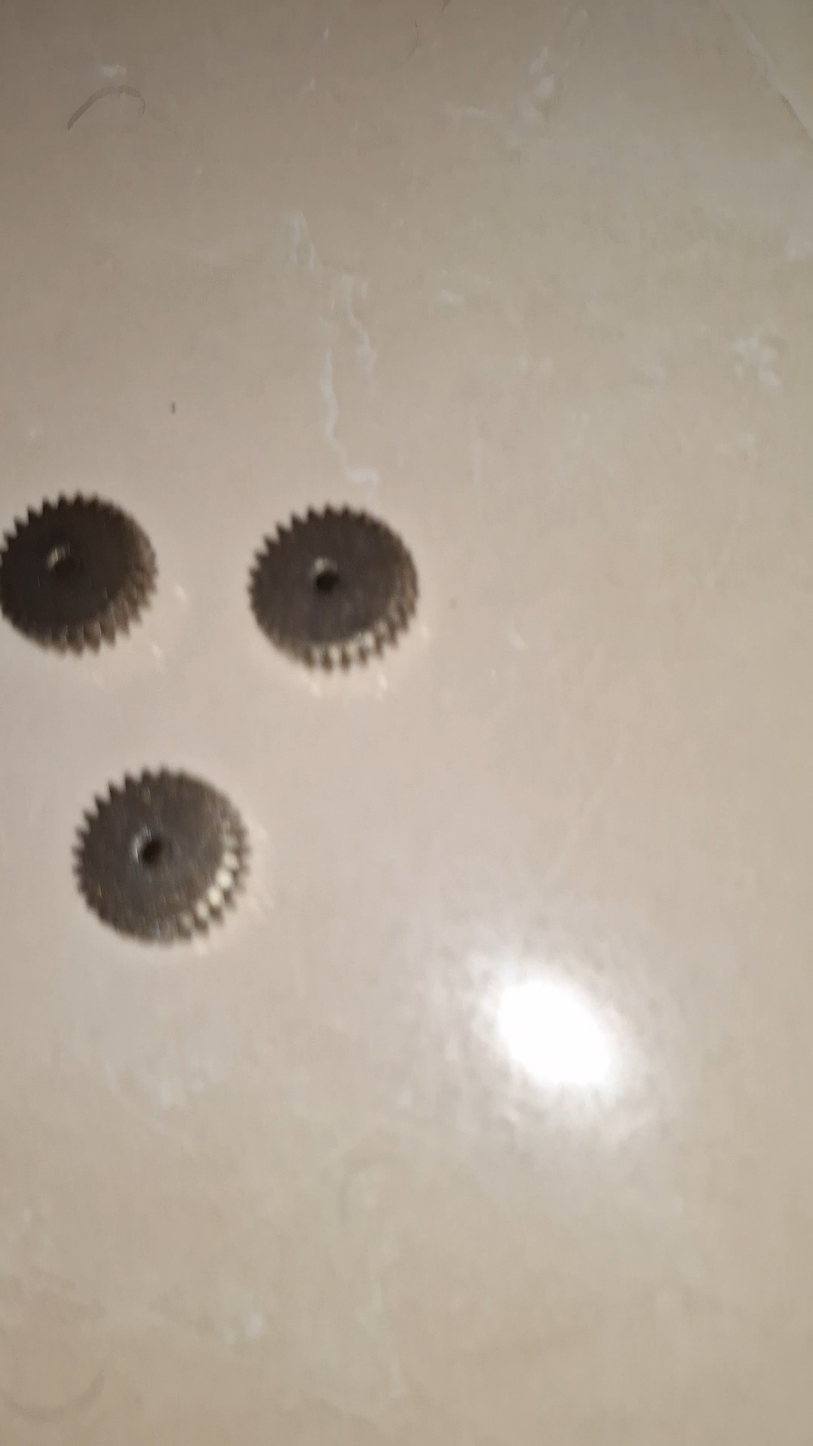spur gear: (75, 770, 247, 942), (250, 508, 418, 668), (0, 496, 156, 652)
